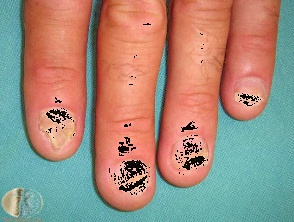Nail_psoriasis: (158, 121, 225, 185), (25, 98, 85, 162), (106, 150, 155, 204), (226, 67, 275, 114)
